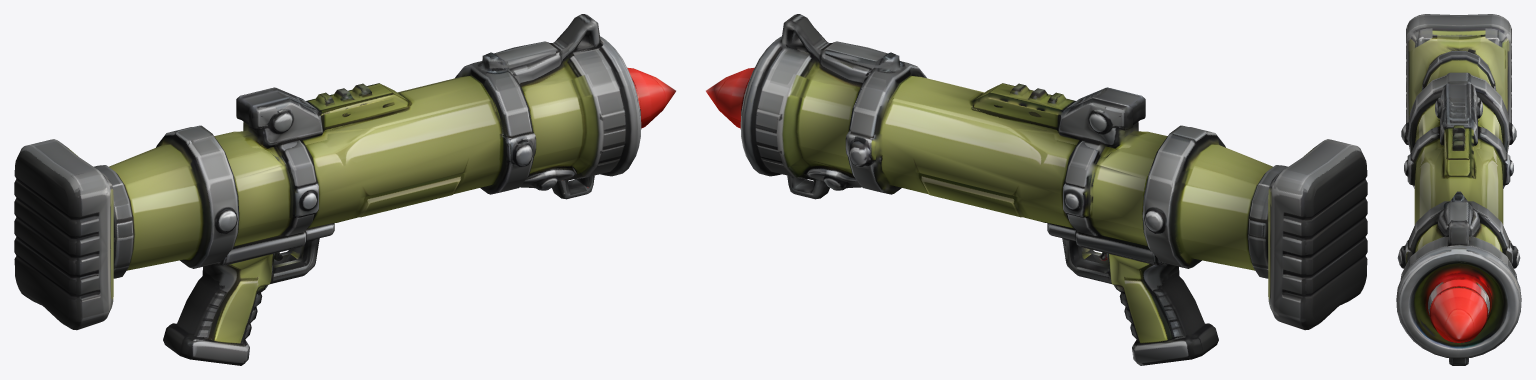
The model's file is fp-rocket.glb.
3 renders of one model, left to right at view 1: azimuth 30°, elevation 25°; view 2: azimuth 150°, elevation 25°; view 3: azimuth 270°, elevation 25°, orthographic. The views are drawn at different scales.
Visible parts, largest first — view 1: body; view 2: body; view 3: body.
Part boxes in pixels (x1,y1,x2,y2): body: [14, 14, 675, 365]; body: [706, 14, 1367, 365]; body: [1396, 14, 1521, 365].
Bounding box in the file's own units: 0.8 × 0.3086 × 0.163.
Materials: 1 (1 with a texture image).
